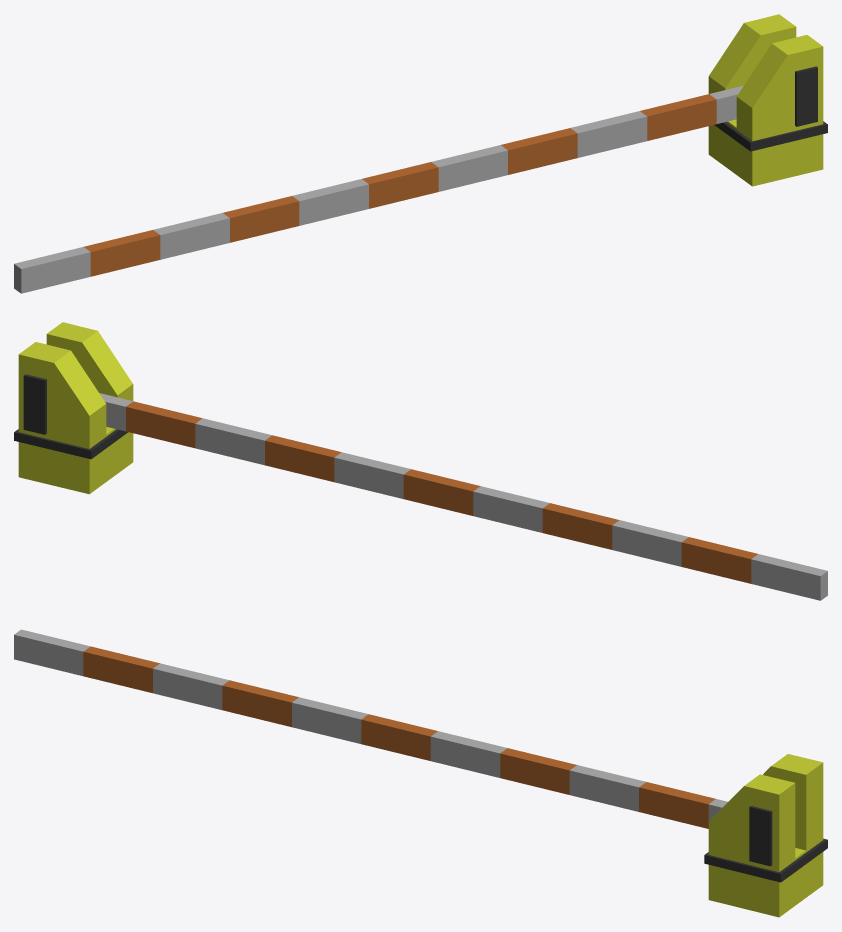
Rendered from Parking_Gate_4.fbx.
3 views of the same model, one above another, from view 1: azimuth 30°, elevation 25°; view 2: azimuth 150°, elevation 25°; view 3: azimuth 330°, elevation 25° (orthographic).
Visible parts, largest first — view 1: Parking_Gate_handle_4, Parking_Gate_4; view 2: Parking_Gate_handle_4, Parking_Gate_4; view 3: Parking_Gate_handle_4, Parking_Gate_4.
Boxes of the visible parts, box(x1,y1,x2,y2) form: Parking_Gate_handle_4: box(14, 85, 743, 293); Parking_Gate_4: box(708, 14, 827, 186); Parking_Gate_handle_4: box(99, 393, 827, 600); Parking_Gate_4: box(14, 322, 133, 494); Parking_Gate_handle_4: box(14, 629, 727, 828); Parking_Gate_4: box(704, 754, 827, 917).
Size of the model in its own units: 527 by 78.65 by 55.41.
